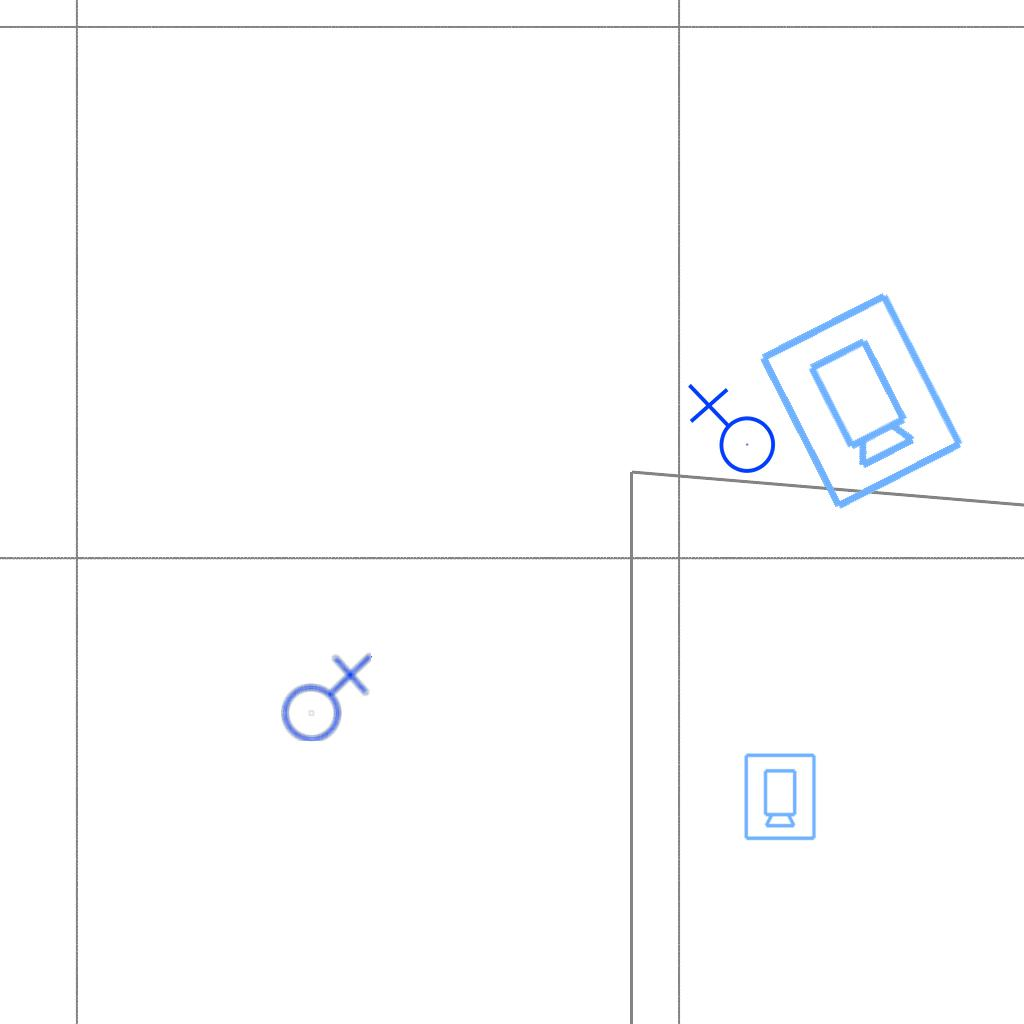Elektroanschluss_allgemein_230V_Geraeteanschlussdose_230V: (683, 383, 777, 482), (274, 649, 373, 743)
KFO_Kamera_mit_Festobjektiv: (750, 284, 970, 518), (741, 751, 818, 842)
